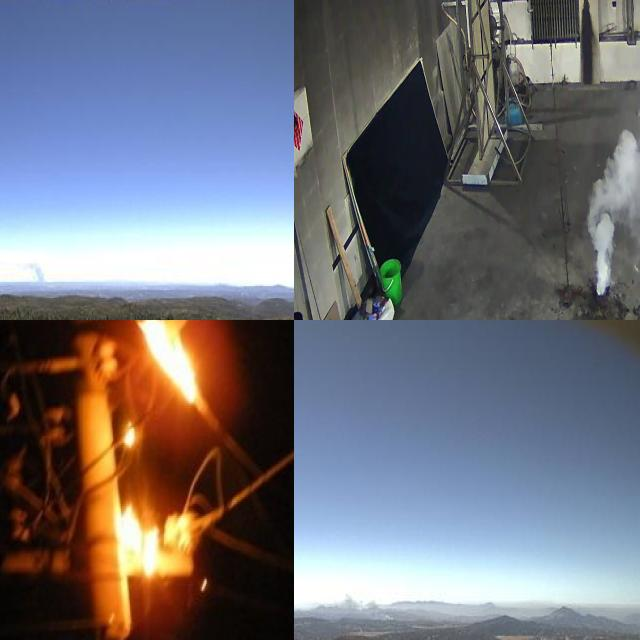fire: (99, 504, 202, 579), (135, 320, 211, 409)
smoke: (586, 69, 640, 295), (301, 589, 396, 624), (15, 258, 49, 290)
